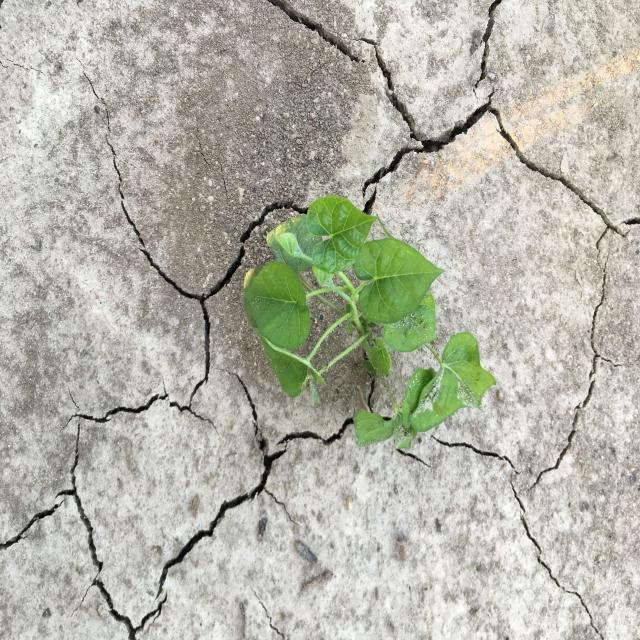MorningGlory: (242, 193, 498, 451)
